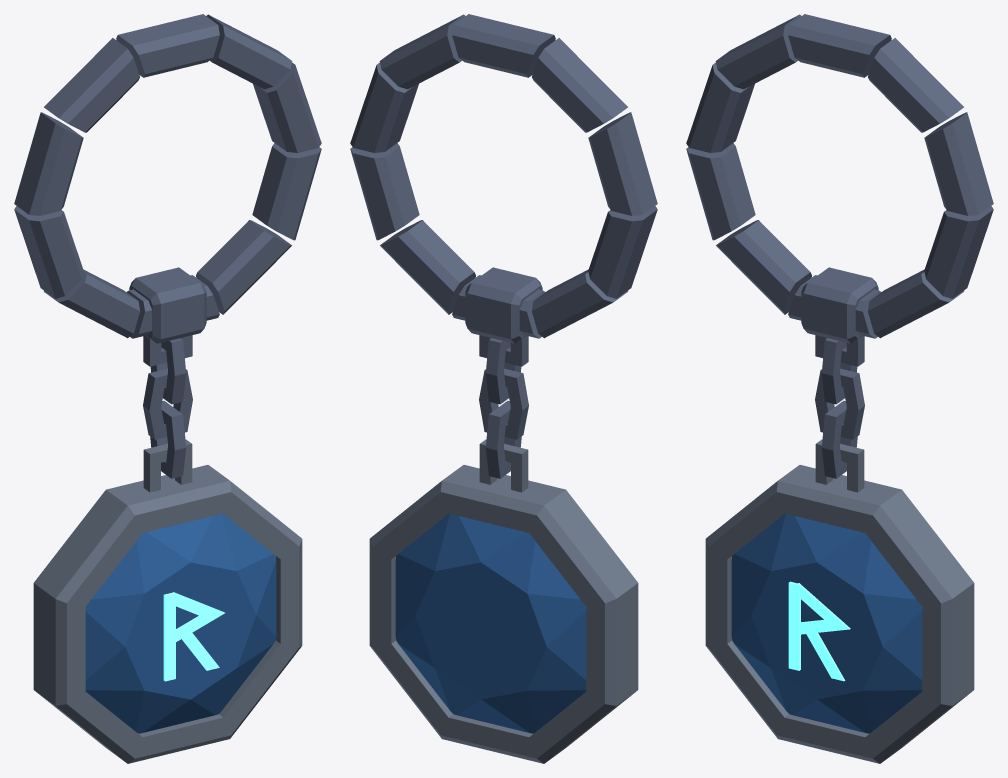
The model's file is talisman-10123f.glb.
3 views of the same model, side by side, from view 1: azimuth 30°, elevation 25°; view 2: azimuth 150°, elevation 25°; view 3: azimuth 330°, elevation 25° (orthographic).
Visible parts, largest first — view 1: mount-metal, charm-metal, charm-crystal, charm-glow; view 2: mount-metal, charm-crystal, charm-metal; view 3: mount-metal, charm-metal, charm-crystal, charm-glow.
Part boxes in pixels (x1,y1,x2,y2): mount-metal: [14, 14, 321, 478]; charm-metal: [33, 439, 302, 763]; charm-crystal: [85, 513, 276, 733]; charm-glow: [163, 592, 224, 681]; mount-metal: [350, 14, 657, 478]; charm-crystal: [395, 513, 586, 733]; charm-metal: [369, 439, 638, 763]; mount-metal: [686, 14, 993, 478]; charm-metal: [705, 439, 974, 763]; charm-crystal: [731, 513, 922, 733]; charm-glow: [788, 581, 850, 681].
Size of the model in its own units: 0.0486 by 0.1133 by 0.0136.
